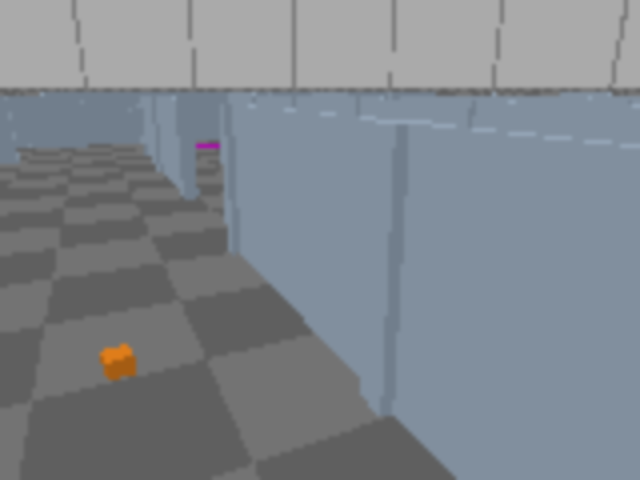puck: (100, 343, 137, 382)
